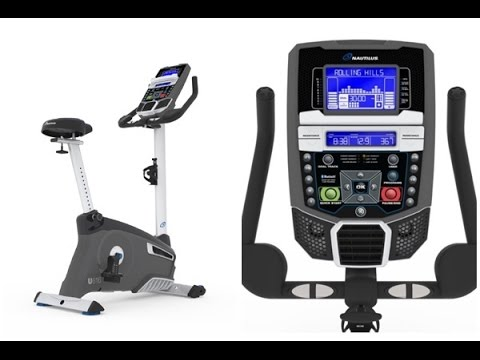gym_bike: (246, 36, 479, 336), (30, 66, 208, 314)
